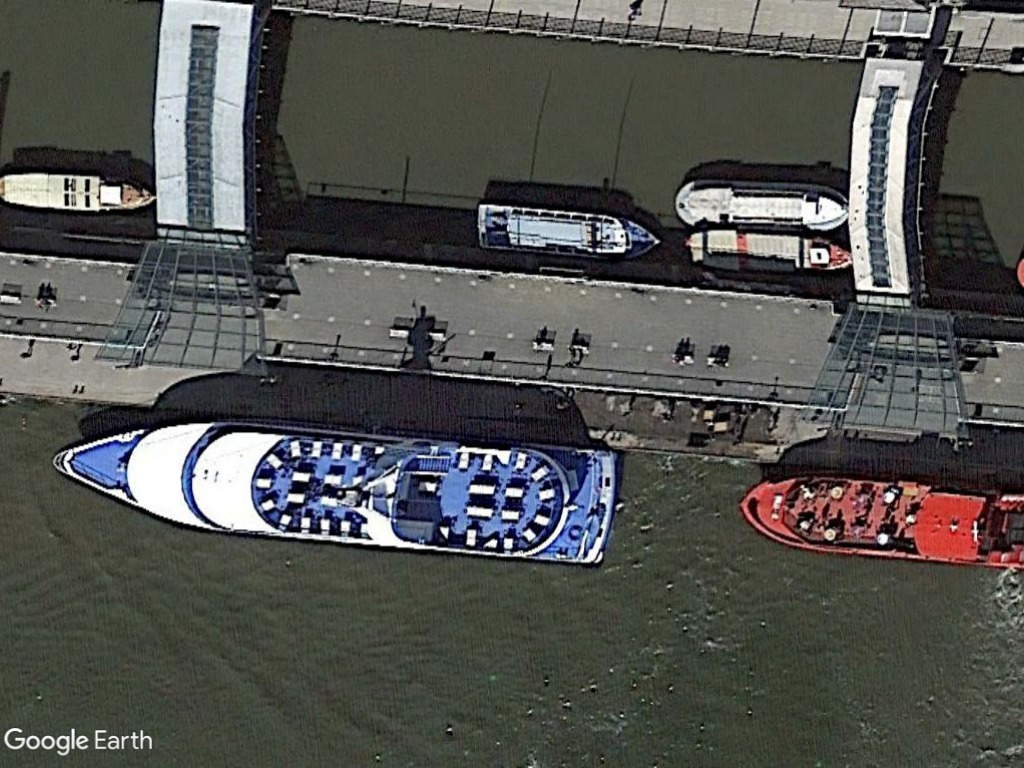boat: (48, 411, 622, 572), (473, 200, 666, 263), (670, 174, 850, 232), (682, 224, 858, 273), (0, 164, 153, 219)
